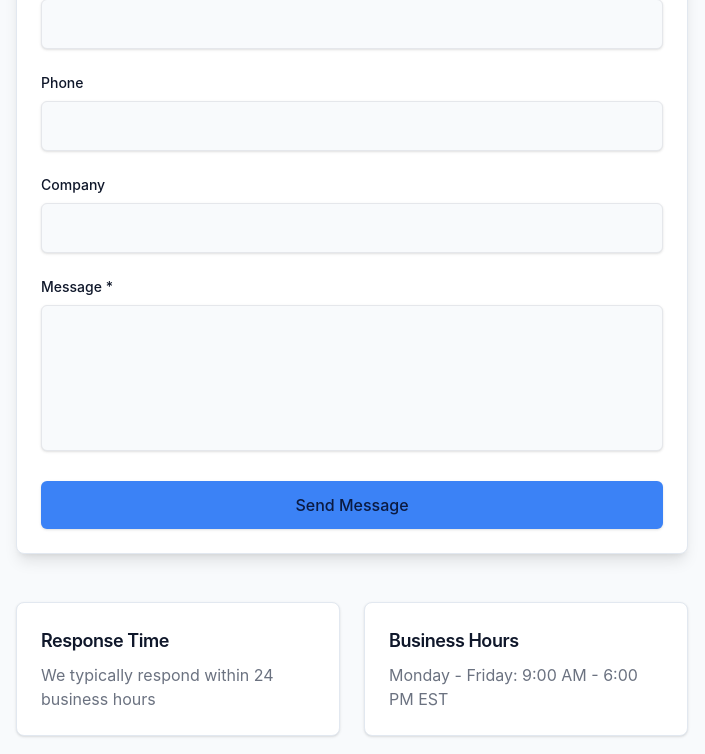
Test: Contact Form - End to End Acceptance Test › validates form fields before submission
The image size is (705, 754).
(page scrolled)
Note: Try to submit empty form
Click the button "Send Message": {"x": 352, "y": 505} [41,481,663,529]
(page scrolled)
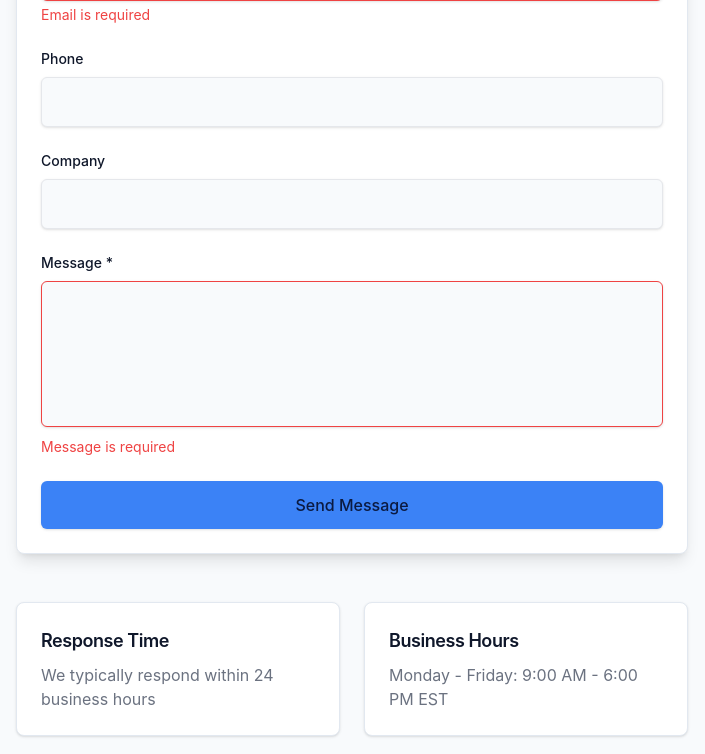
Check: the text "Email is required" is shown, box [41,6,150,23]
Check: the text "Message is required" is shown, box [41,438,175,455]
